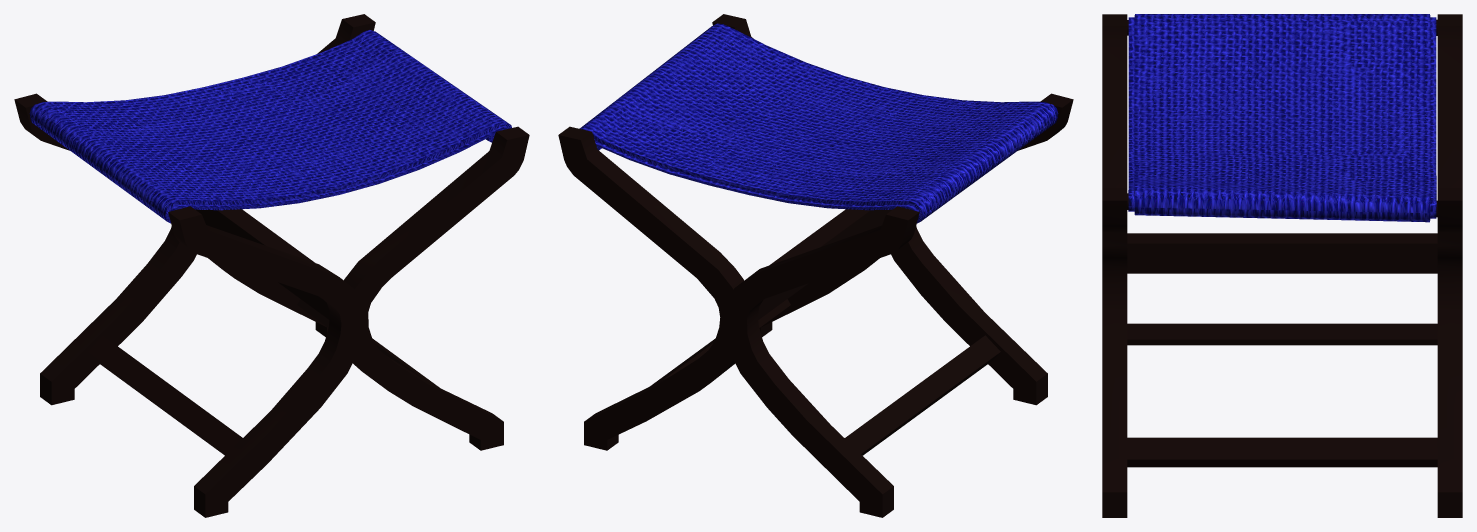
Rendered from blueChairSF.obj.
3 renders of one model, left to right at view 1: azimuth 30°, elevation 25°; view 2: azimuth 150°, elevation 25°; view 3: azimuth 270°, elevation 25°, orthographic. The views are drawn at different scales.
Visible parts, largest first — view 1: blue_chair; view 2: blue_chair; view 3: blue_chair.
Part boxes in pixels (x1=…): blue_chair: x1=14, y1=14, x2=529, y2=517; blue_chair: x1=558, y1=14, x2=1073, y2=517; blue_chair: x1=1102, y1=14, x2=1462, y2=517.
Bounding box in the file's own units: 53.13 × 44.78 × 43.45.
Materials: 2 (1 with a texture image).
